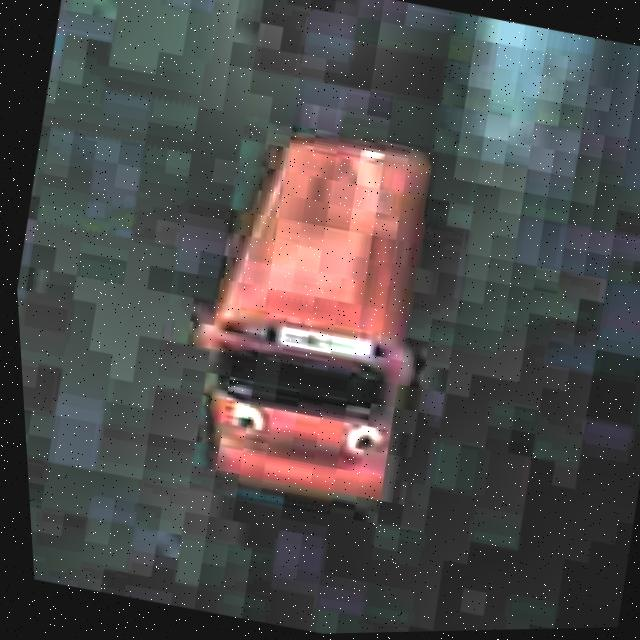bus: (140, 91, 482, 535)
